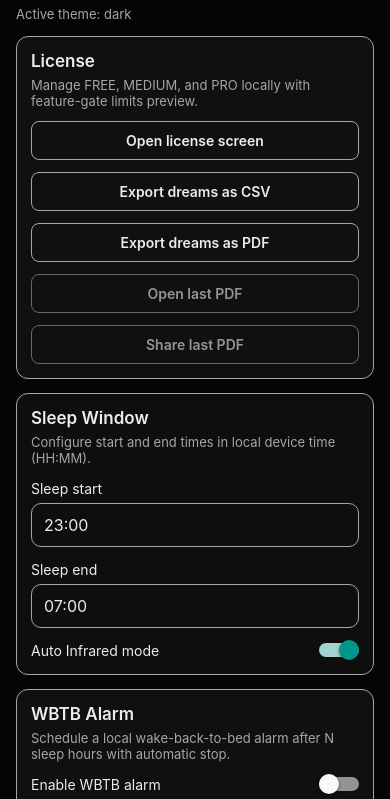
SettingsScreenView › shows validation error and skips persistence when times are invalid
The image size is (390, 799).
In the field with test id "settings-sleep-start-input": (195, 525) 31,503 -> 359,547, type "abc"
(page scrolled)
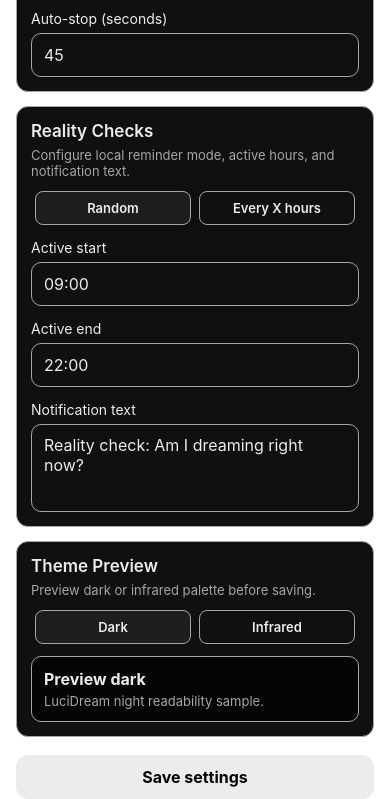
Click the button with test id "settings-save-button": (195, 777) 16,755 -> 374,798
(page scrolled)
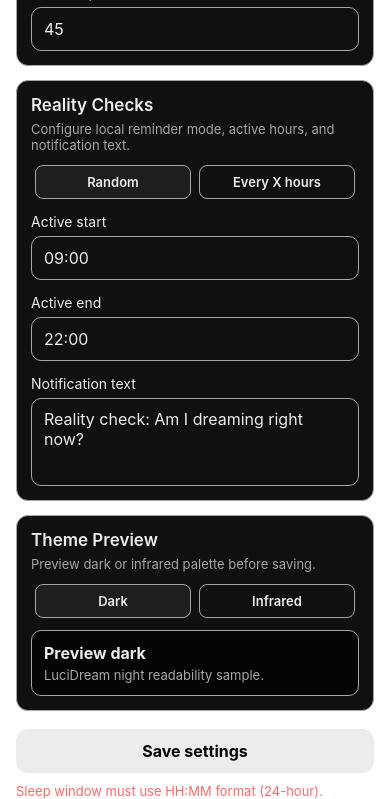
Now the text with test id "settings-error-message" reads "Sleep window must use HH:MM format (24-hour).", box 16,783 -> 323,798
